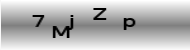7: (31, 13, 44, 28)
M: (51, 25, 69, 39)
Z: (91, 6, 107, 21)
j: (67, 13, 74, 30)
p: (122, 16, 135, 31)
